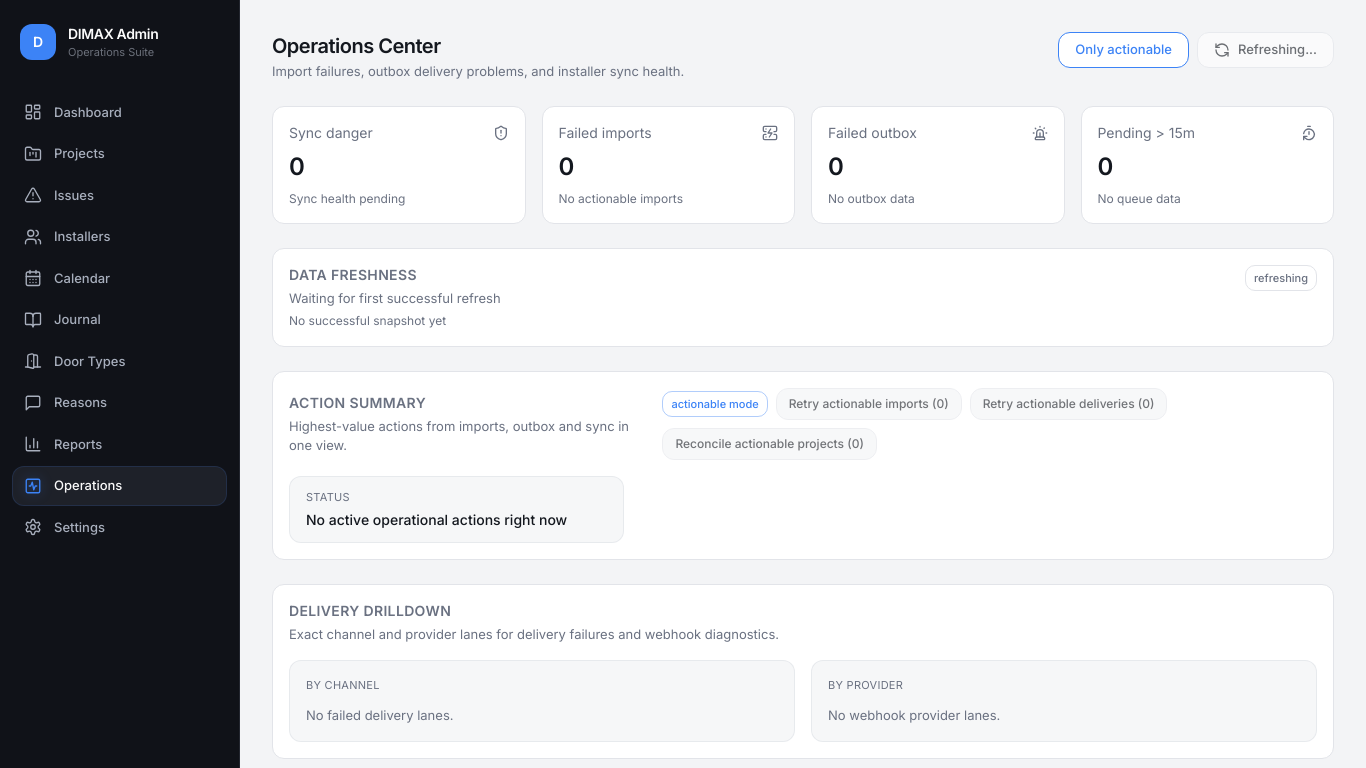
Scenario: OperationsPage › reads and syncs actionable filter with url state
The width and height of the screenshot is (1366, 768).
Expected: the heading "Operations Center" is shown, x1=272 y1=34 x2=441 y2=58
Expected: the text "Bat Yam Heights" is not shown
Click the button "Only actionable": (1124, 50) x1=1058 y1=32 x2=1189 y2=68
(page scrolled)
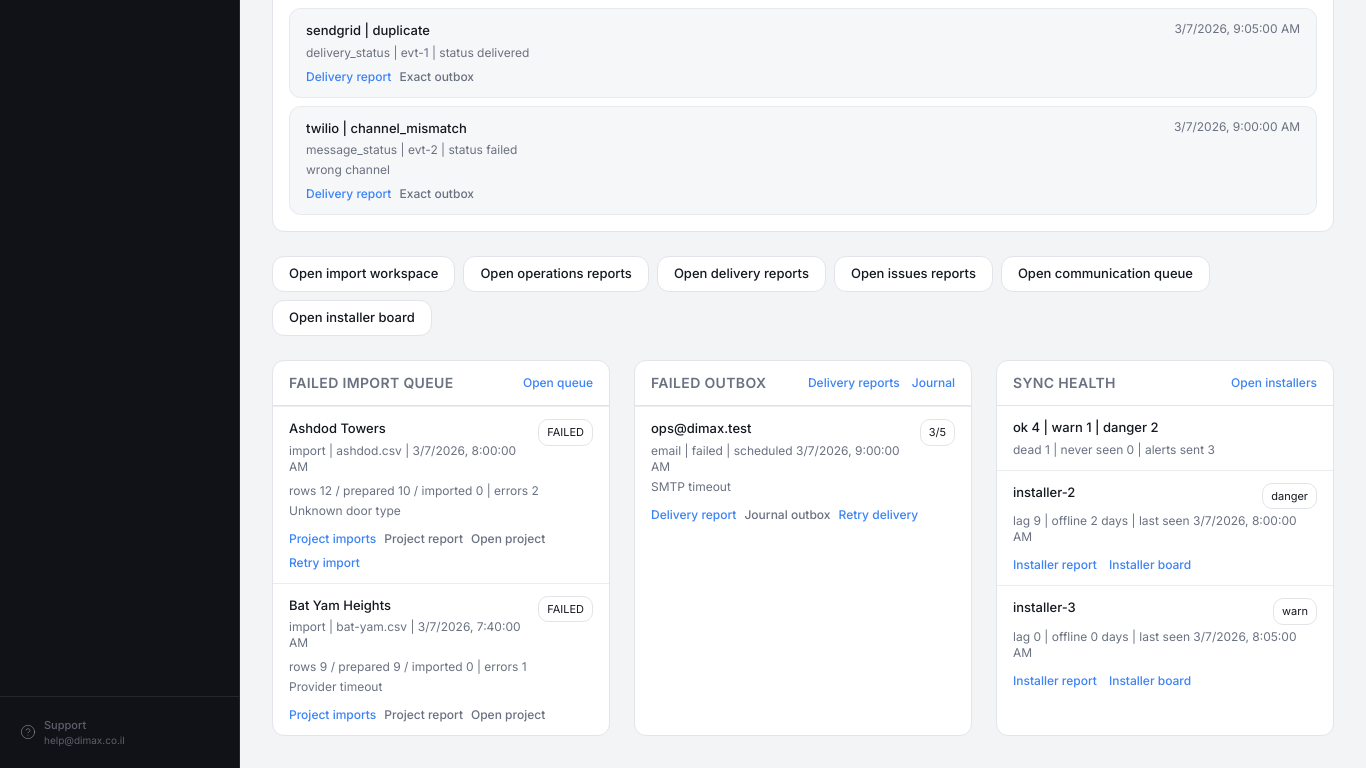
Expected: the text "Bat Yam Heights" is shown, x1=289 y1=596 x2=391 y2=612
